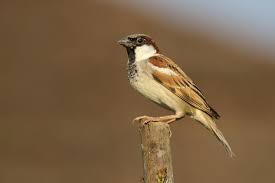hsparrow: (112, 26, 238, 157)
